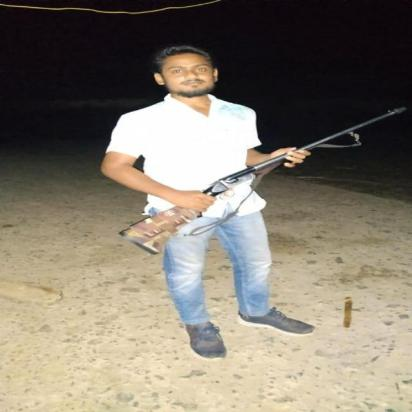Gun: (117, 105, 410, 256)
